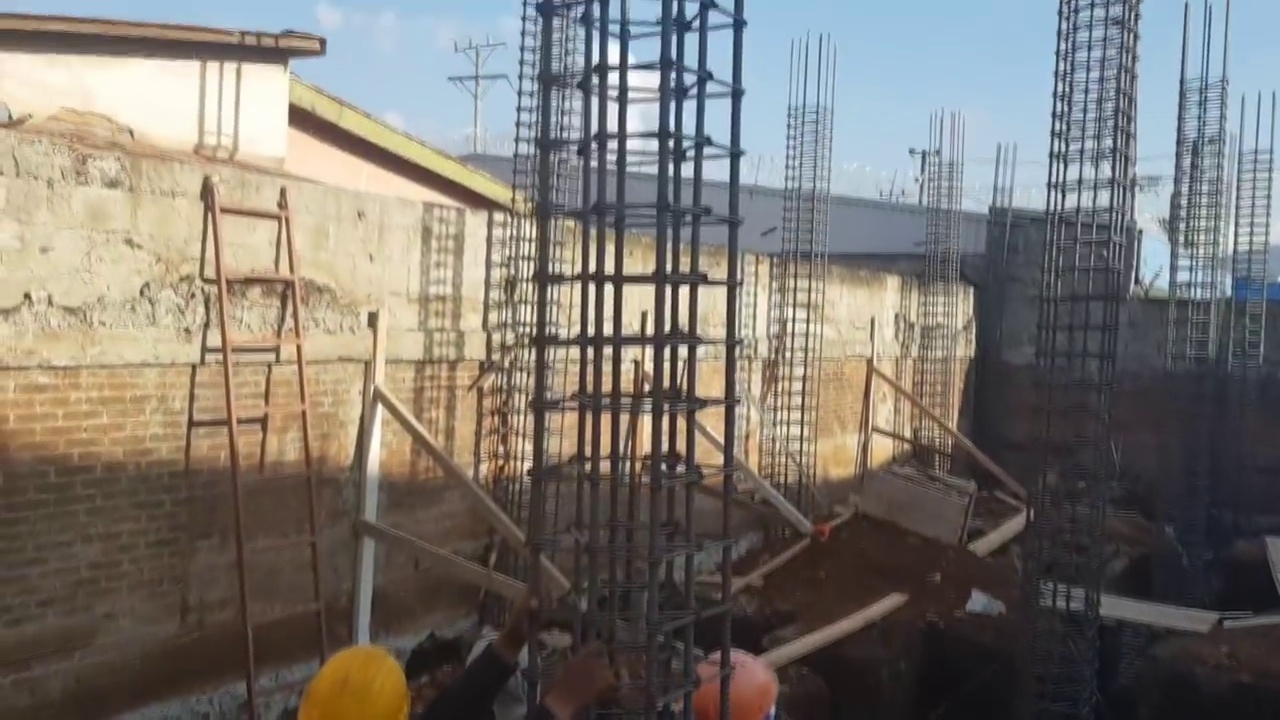helmet: (297, 653, 407, 715), (685, 651, 781, 711)
